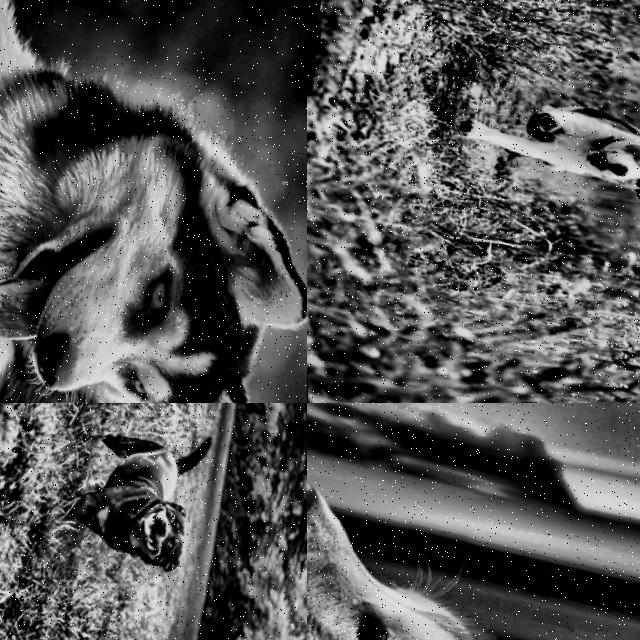beagle: (562, 108, 640, 241)
husky: (0, 0, 307, 403), (307, 421, 640, 640)
rottweiler: (120, 482, 202, 588)
